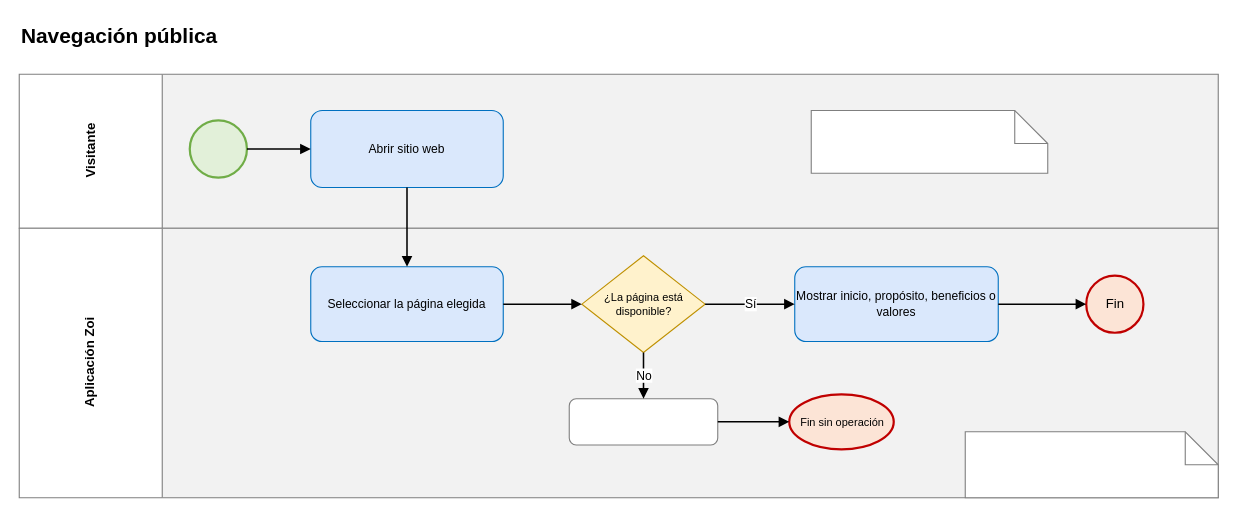
This 1238x517 diagram has some shape labels left out. The shapes that lost their labels are listed below. From the top down, each one's box as (x1, y1, x2, y2) in pixels, then its label:
(188, 119, 248, 178): Inicio
(810, 109, 1048, 173): Entrada: Opción del menú
(568, 398, 718, 445): Mostrar aviso
(964, 431, 1218, 498): Salida: Página informativa
